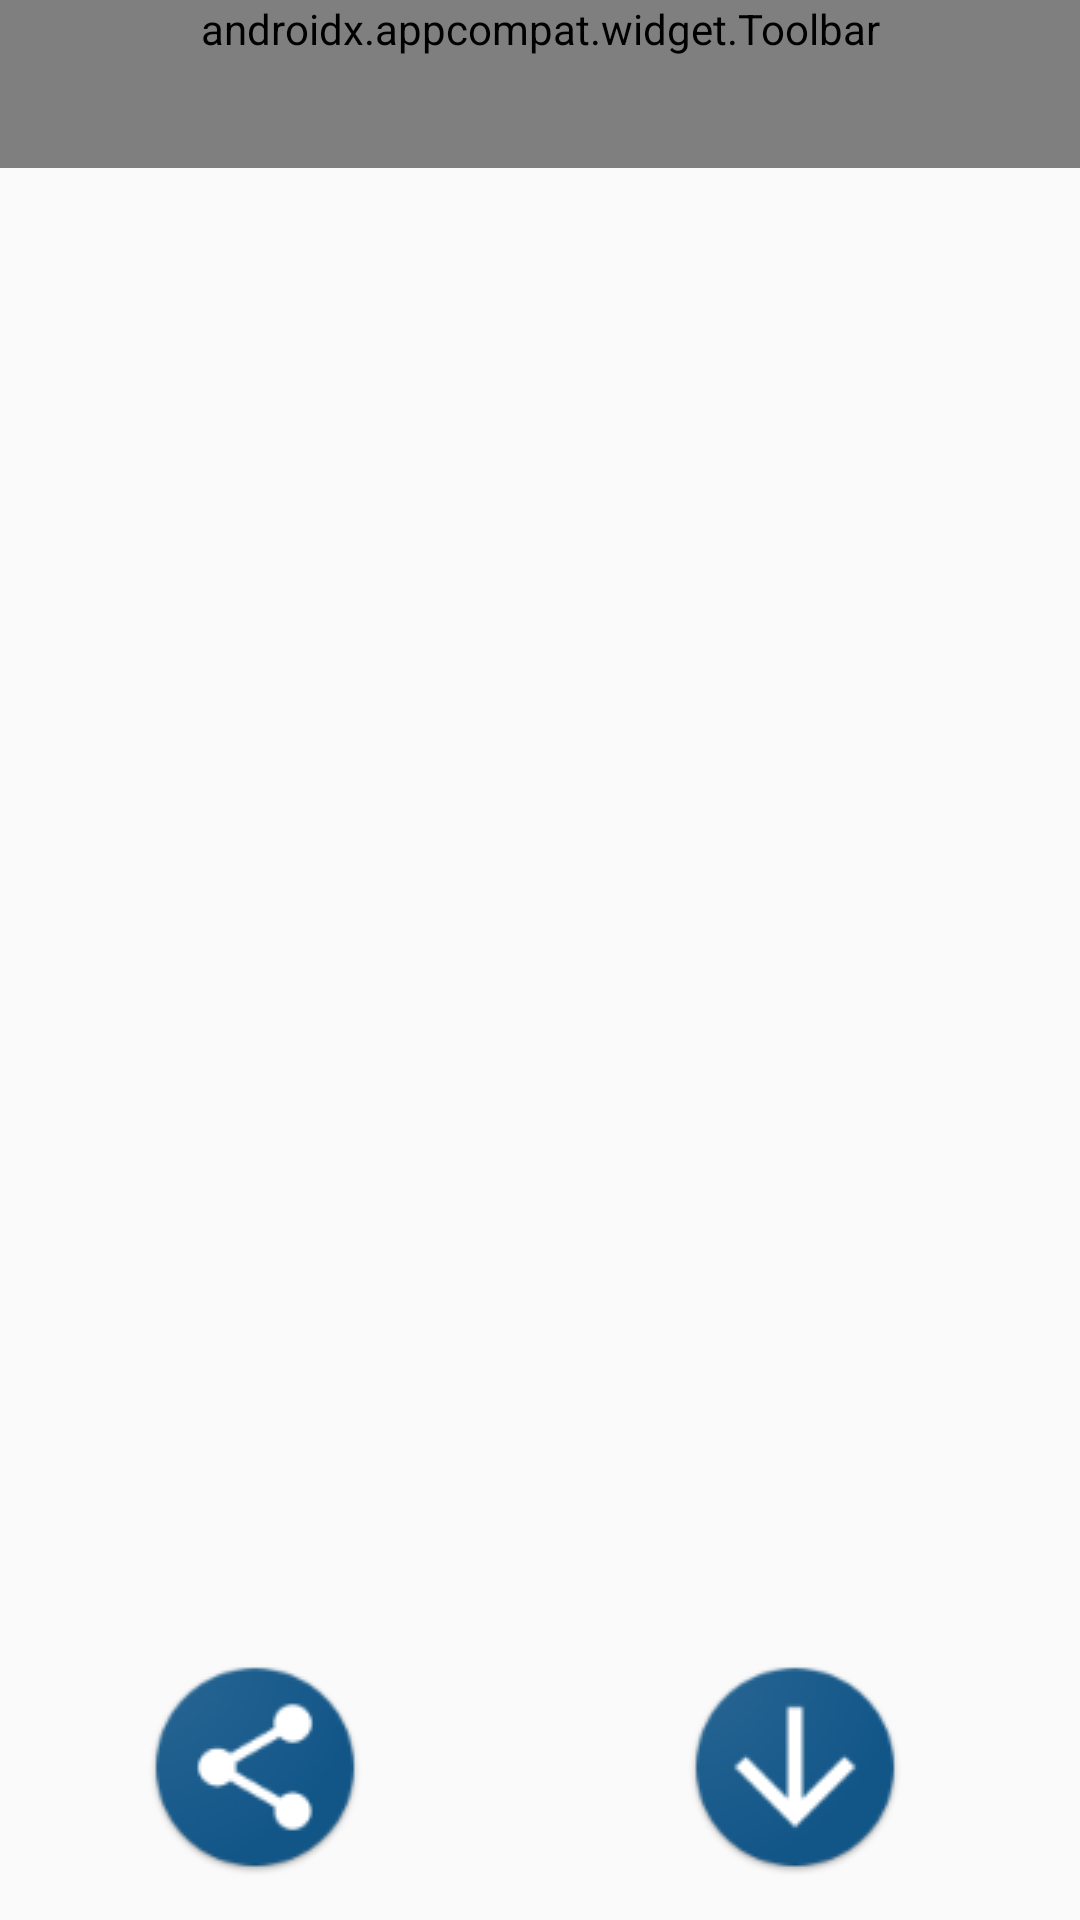

Icons on this 1080w x 1920h Android screen, each with the point to tap as [x,y]:
download: [795,1769]
share: [255,1769]
